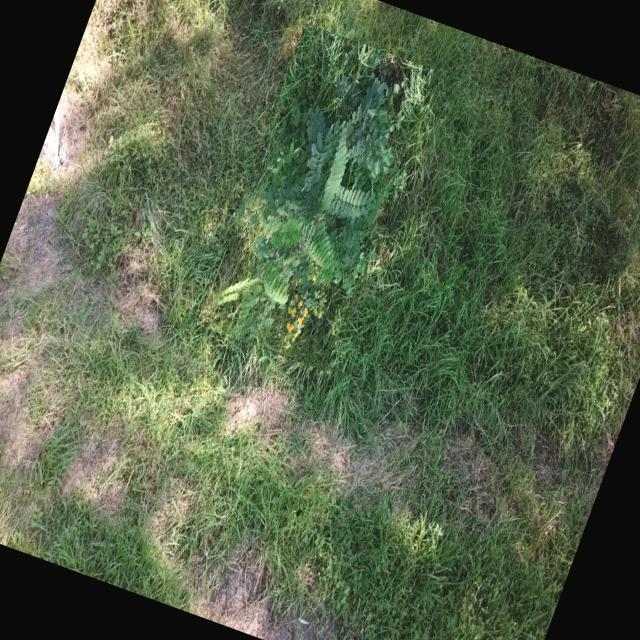Mysore-Thorn-Weed: (196, 23, 434, 372)
